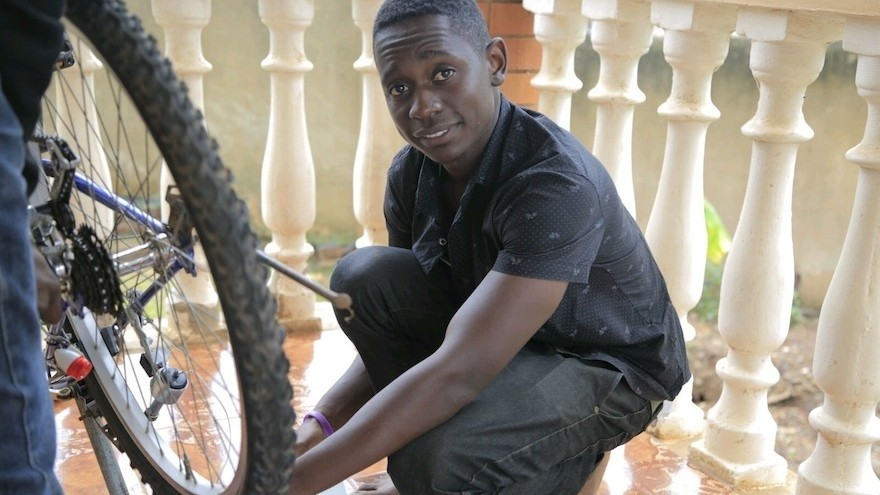face_no_mask: (372, 0, 505, 161)
